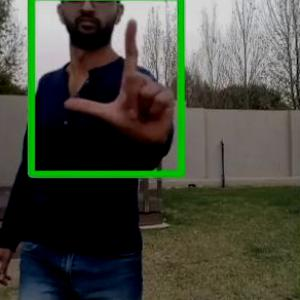land_hand: (61, 18, 174, 149)
